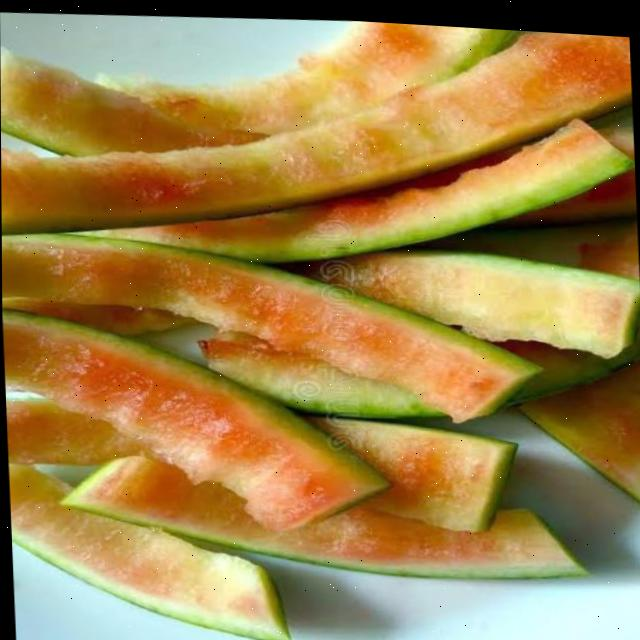Wet: (1, 209, 546, 436), (2, 291, 401, 543), (59, 421, 612, 595), (91, 4, 531, 166), (7, 448, 290, 640)
